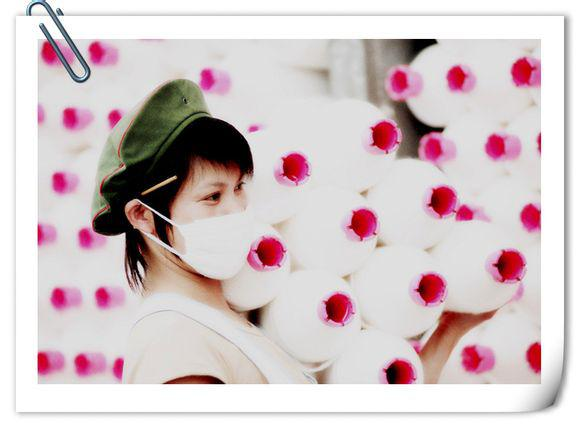OK: (161, 178, 262, 279)
